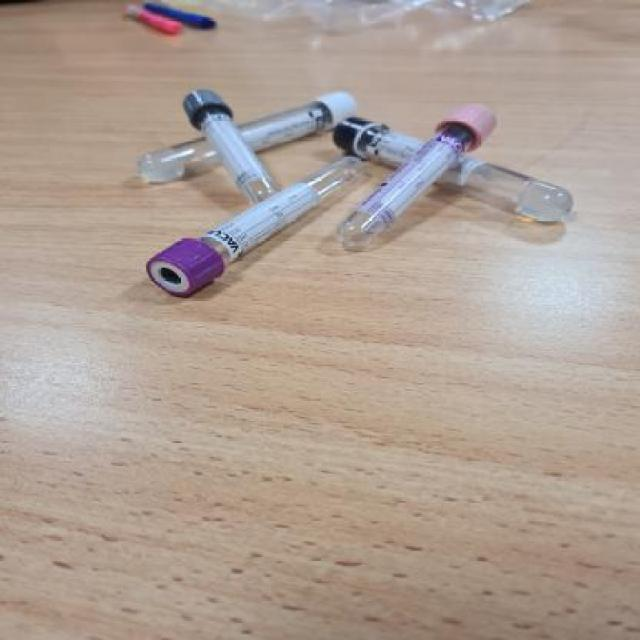Experimental-tube: (148, 155, 368, 299), (329, 114, 574, 223), (339, 104, 498, 250), (136, 91, 358, 183), (184, 88, 281, 205)
